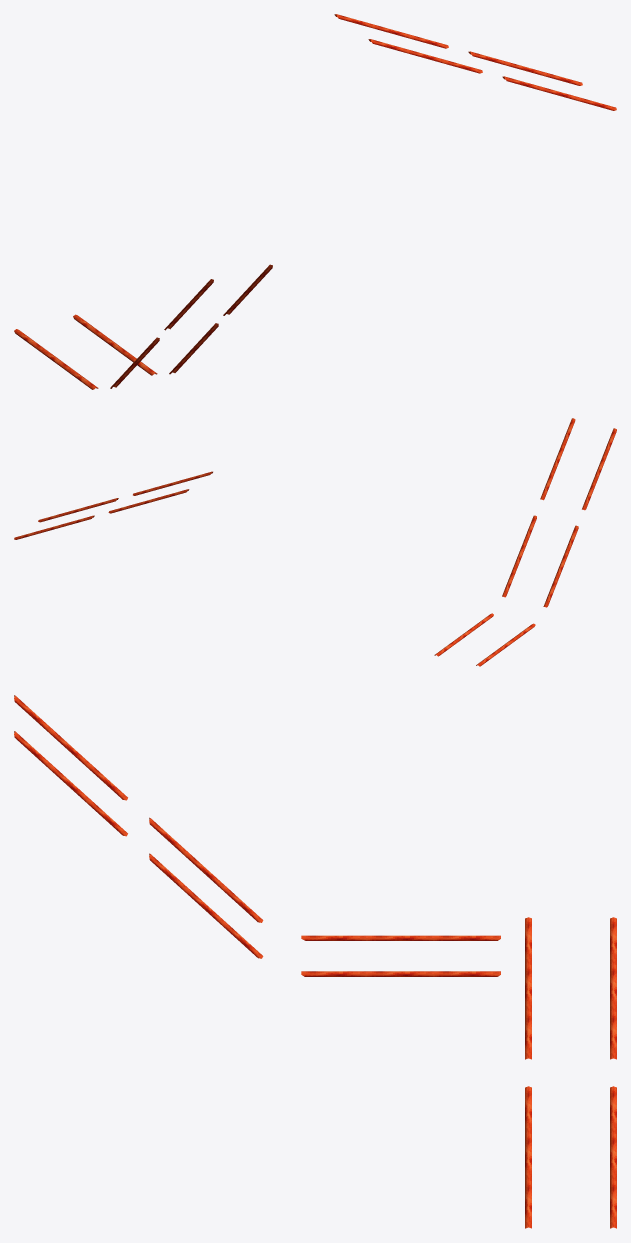
3 renders of one model, top to bottom at view 1: azimuth 30°, elevation 25°; view 2: azimuth 150°, elevation 25°; view 3: azimuth 270°, elevation 25°, orthographic. The views are drawn at different scales.
Visible parts, largest first — view 1: S04_ON_23; view 2: S04_ON_23; view 3: S04_ON_23.
Boxes of the visible parts, x1=… form: S04_ON_23: x1=14, y1=14, x2=616, y2=389; S04_ON_23: x1=14, y1=418, x2=616, y2=666; S04_ON_23: x1=14, y1=695, x2=616, y2=1228.
Bounding box in the file's own units: 114432 × 34939 × 78100.
